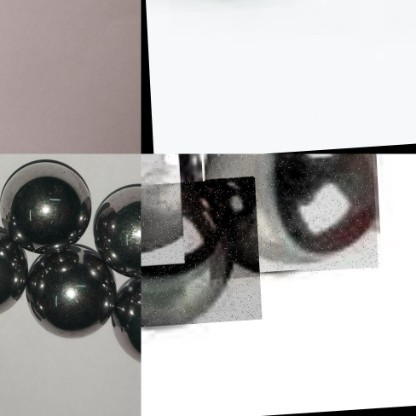ironball: (201, 153, 377, 282), (141, 180, 259, 331), (0, 153, 98, 256), (23, 241, 115, 339), (87, 181, 145, 272), (109, 266, 143, 366), (0, 234, 27, 321)
